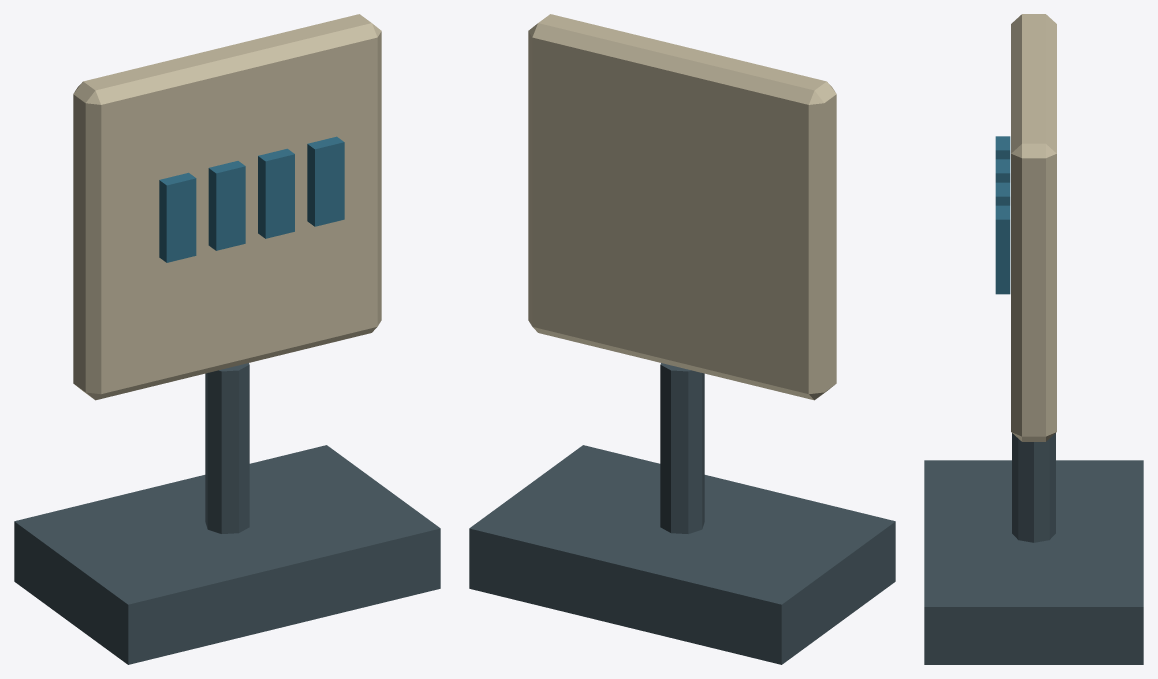
Rendered from set_caution_placard.glb.
3 renders of one model, left to right at view 1: azimuth 30°, elevation 25°; view 2: azimuth 150°, elevation 25°; view 3: azimuth 270°, elevation 25°, orthographic. The views are drawn at different scales.
Parts seen in each view (by area): view 1: set_caution_placard; view 2: set_caution_placard; view 3: set_caution_placard.
Part boxes in pixels (bbox=[...]): set_caution_placard: bbox=[14, 14, 440, 664]; set_caution_placard: bbox=[469, 14, 895, 664]; set_caution_placard: bbox=[924, 14, 1143, 664].
Bounding box in the file's own units: 0.19 × 0.3095 × 0.12.
